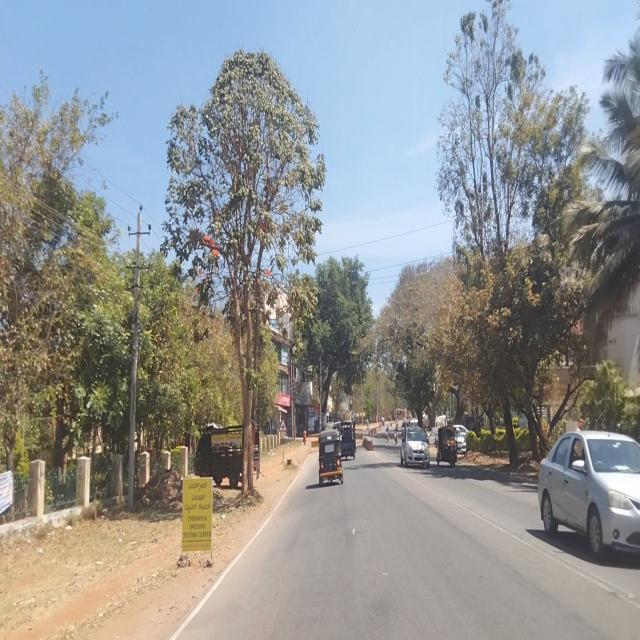bien_cam: (278, 418, 288, 432)
